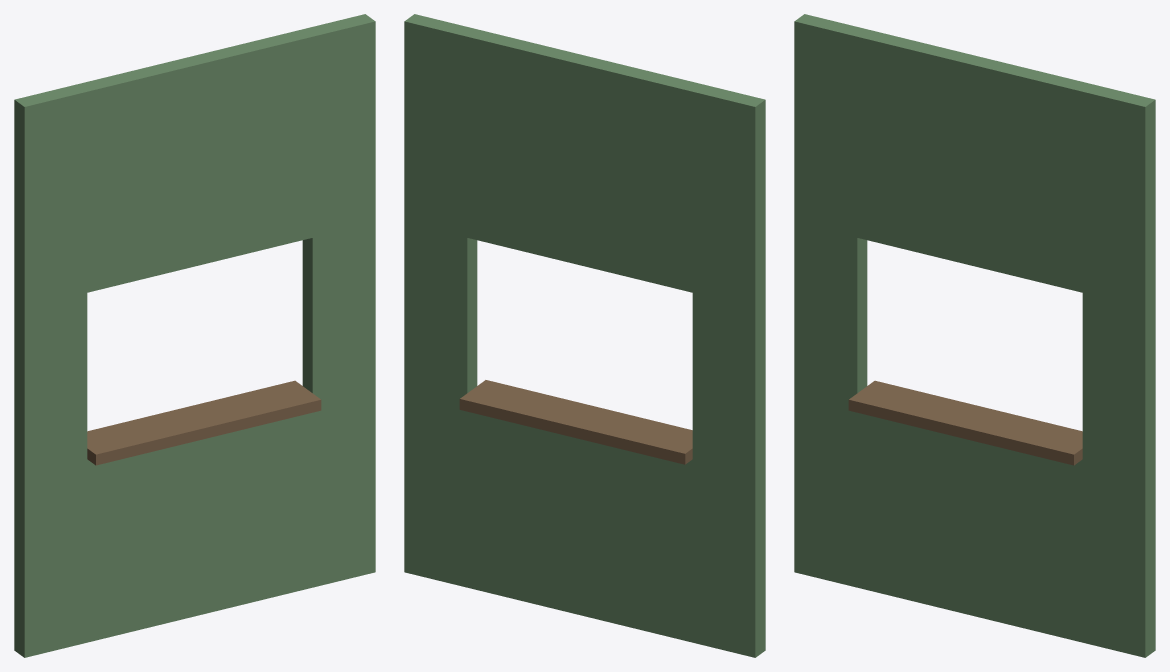
File: Mesh_Wall_F3.fbx
The picture shows the model from 3 angles, left to right: view 1: azimuth 30°, elevation 25°; view 2: azimuth 150°, elevation 25°; view 3: azimuth 330°, elevation 25°; orthographic projection.
Visible parts, largest first — view 1: Mesh_Wall_F3; view 2: Mesh_Wall_F3; view 3: Mesh_Wall_F3.
Boxes of the visible parts, box(x1,y1,x2,y2) form: Mesh_Wall_F3: box(14, 14, 375, 657); Mesh_Wall_F3: box(404, 14, 765, 657); Mesh_Wall_F3: box(794, 14, 1155, 657).
Bounding box in the file's own units: 2 × 3 × 0.2574.
